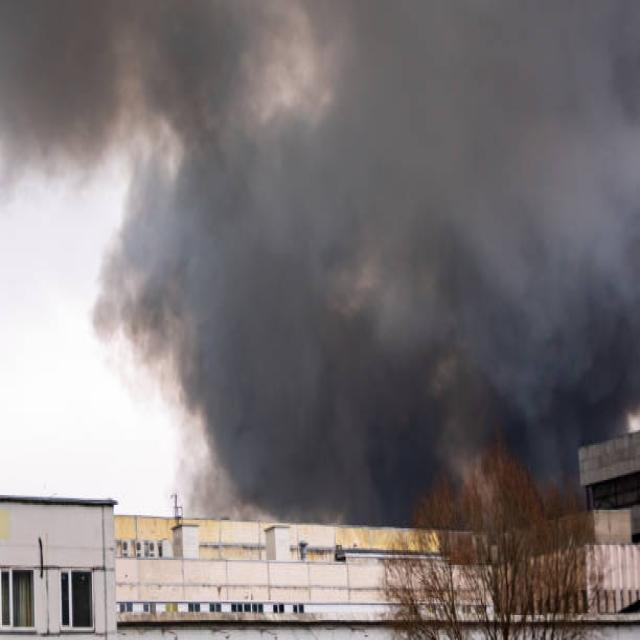Smoke: (0, 0, 640, 273), (114, 274, 636, 420), (208, 406, 437, 520)
